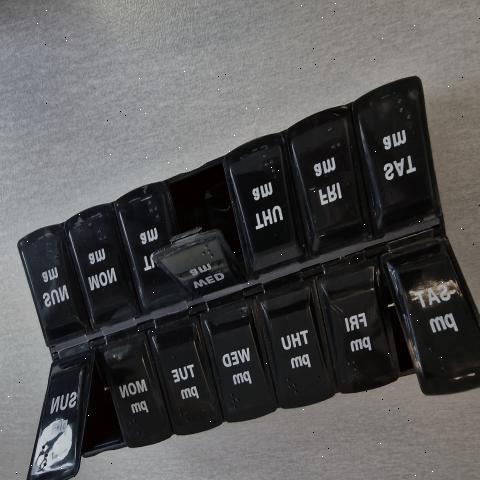Open: (154, 163, 249, 287), (61, 348, 121, 480), (383, 259, 424, 397)
